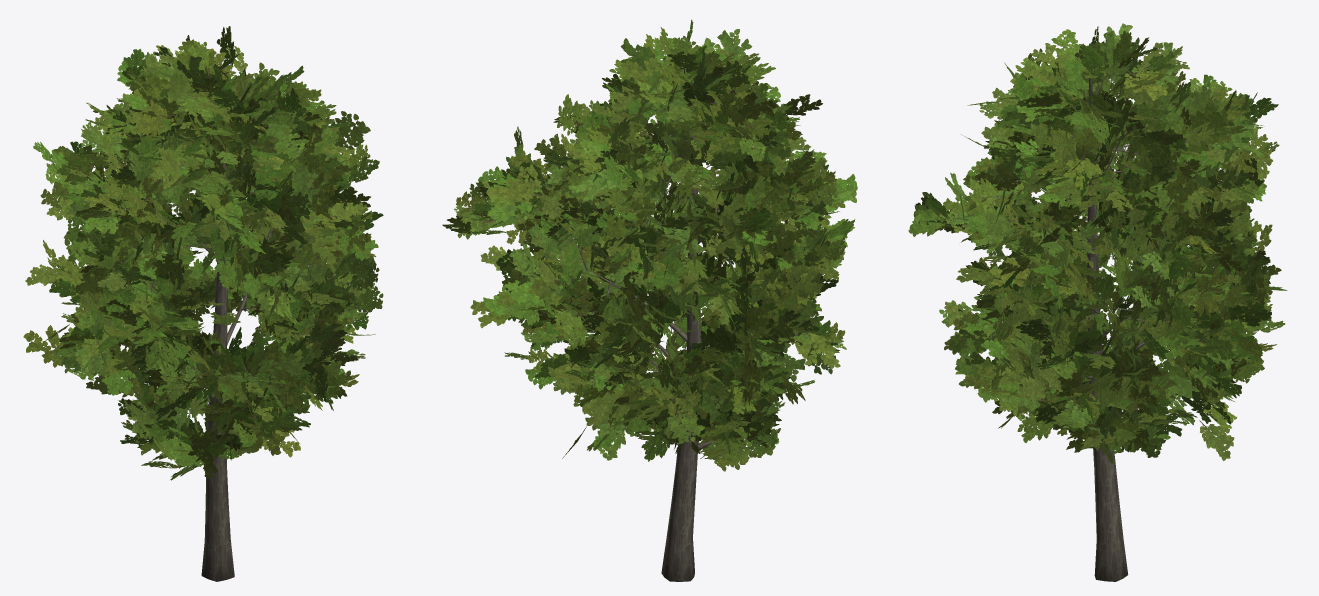
Rendered from lipa_stredni.glb.
3 views of the same model, side by side, from view 1: azimuth 30°, elevation 25°; view 2: azimuth 150°, elevation 25°; view 3: azimuth 270°, elevation 25° (orthographic).
Visible parts, largest first — view 1: lipa_stredni; view 2: lipa_stredni; view 3: lipa_stredni.
Part boxes in pixels (left/top/right/bottom): lipa_stredni: left=23, top=26, right=383, bottom=581; lipa_stredni: left=442, top=19, right=857, bottom=581; lipa_stredni: left=908, top=23, right=1287, bottom=581.
Bounding box in the file's own units: 10.56 × 14.6 × 9.88.
2 materials, 2 textured.
